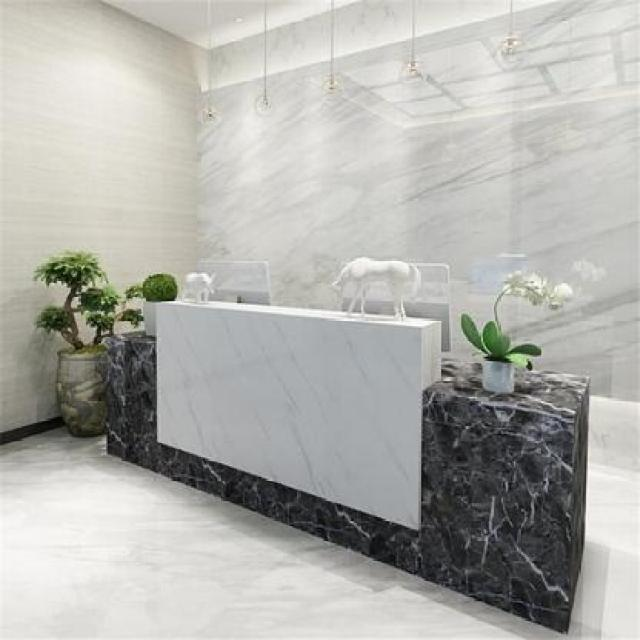frontdesk: (93, 287, 602, 640)
